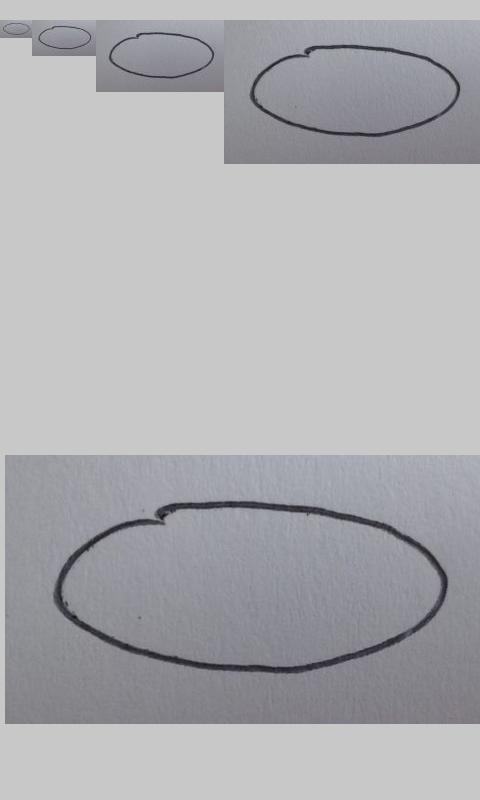chip: (54, 501, 448, 674), (249, 44, 461, 137), (108, 32, 215, 79), (38, 25, 92, 50), (3, 22, 31, 35)
